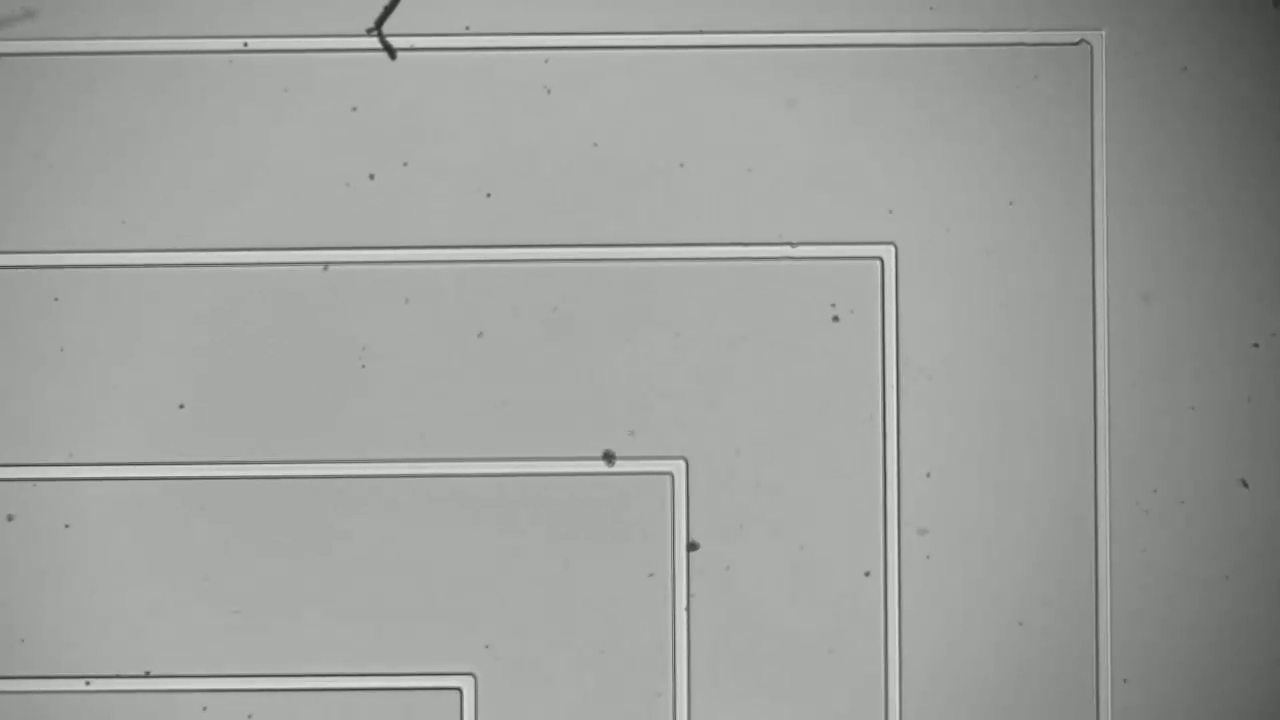edge_bite: (1066, 21, 1097, 55)
stains_enbedded: (590, 440, 630, 480)
